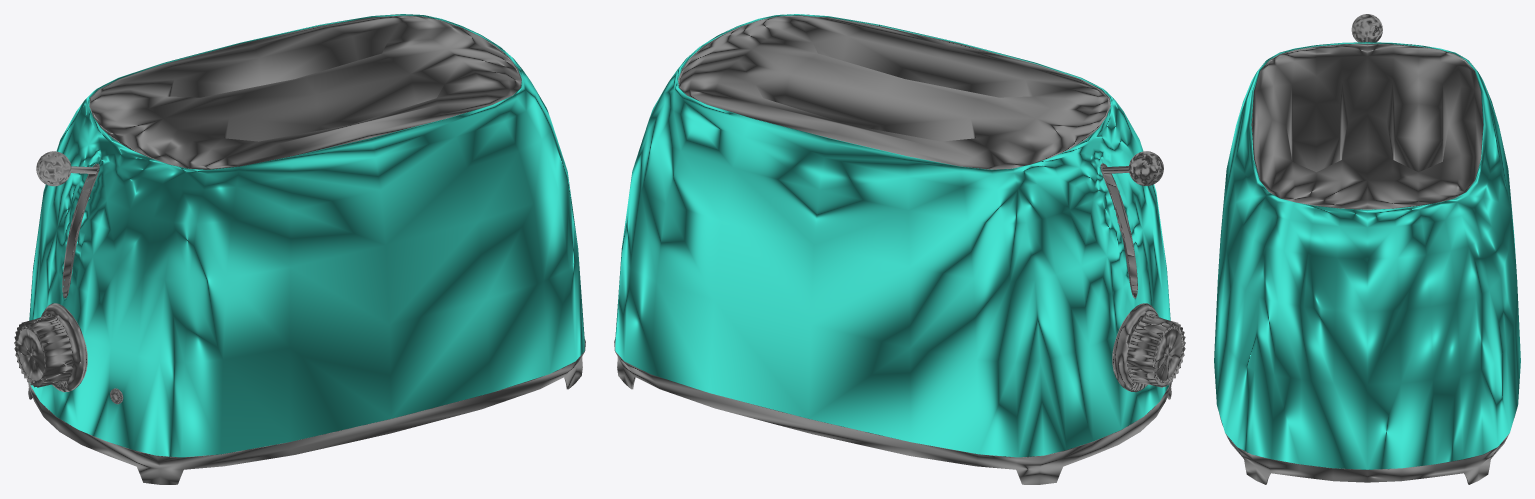
File: Toaster.obj
3 renders of one model, left to right at view 1: azimuth 30°, elevation 25°; view 2: azimuth 150°, elevation 25°; view 3: azimuth 270°, elevation 25°, orthographic. The views are drawn at different scales.
Visible parts, largest first — view 1: Cube_001, Cylinder, Cube_002, Sphere; view 2: Cube_001, Cylinder, Cube_002, Sphere; view 3: Cube_001, Sphere.
Part boxes in pixels (x1,y1,x2,y2): Cube_001: [28, 14, 585, 484]; Cylinder: [14, 303, 87, 392]; Cube_002: [62, 163, 99, 298]; Sphere: [36, 151, 97, 186]; Cube_001: [614, 14, 1171, 484]; Cylinder: [1112, 303, 1185, 392]; Cube_002: [1100, 163, 1137, 298]; Sphere: [1102, 151, 1163, 185]; Cube_001: [1214, 42, 1520, 484]; Sphere: [1351, 14, 1382, 42].
Bounding box in the file's own units: 420 × 239 × 239.
